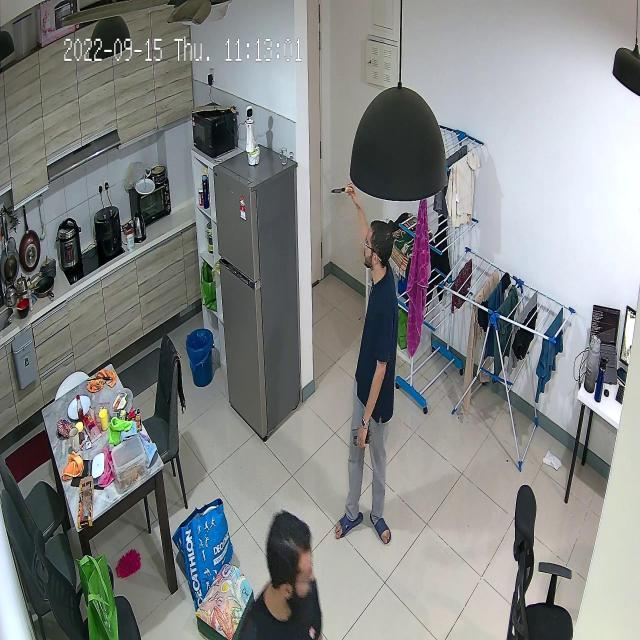Knife: (321, 178, 358, 206)
